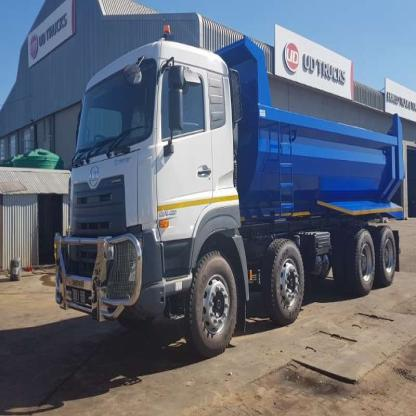dump_truck: (48, 34, 415, 358)
